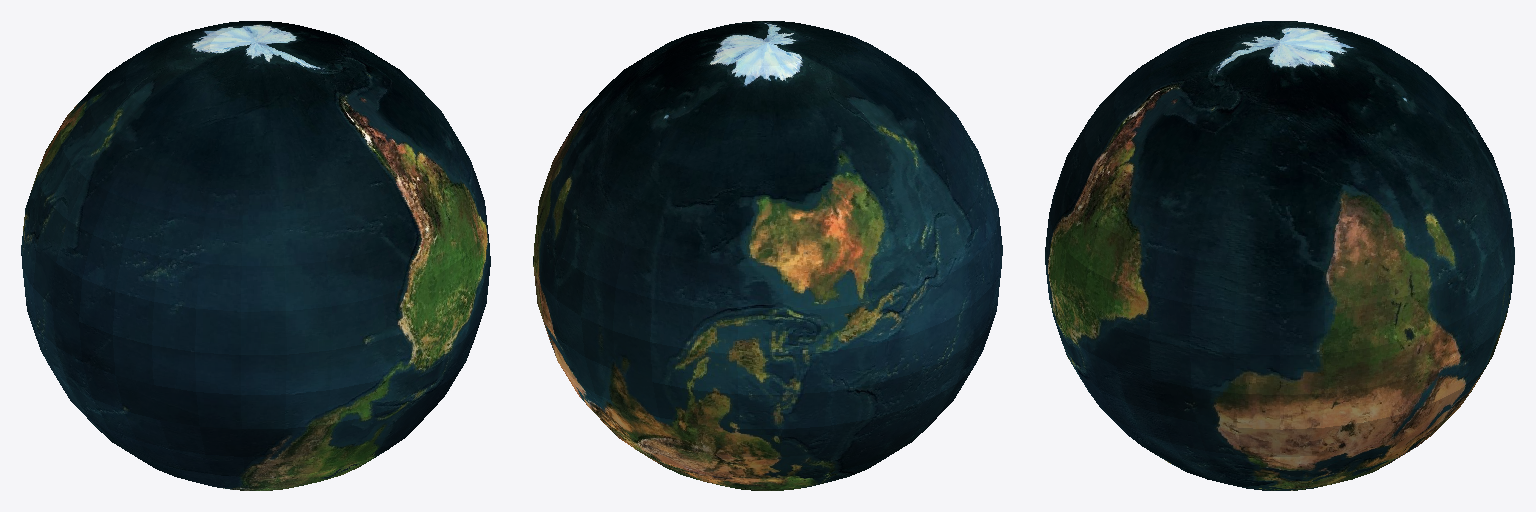
3 views of the same model, side by side, from view 1: azimuth 30°, elevation 25°; view 2: azimuth 150°, elevation 25°; view 3: azimuth 270°, elevation 25° (orthographic).
Parts seen in each view (by area): view 1: Sphere; view 2: Sphere; view 3: Sphere.
Boxes of the visible parts, x1,y1,x2,y2 form: Sphere: [21, 21, 490, 490]; Sphere: [533, 21, 1002, 490]; Sphere: [1045, 21, 1514, 490].
Size of the model in its own units: 2 by 2 by 2.
1 materials, 1 textured.